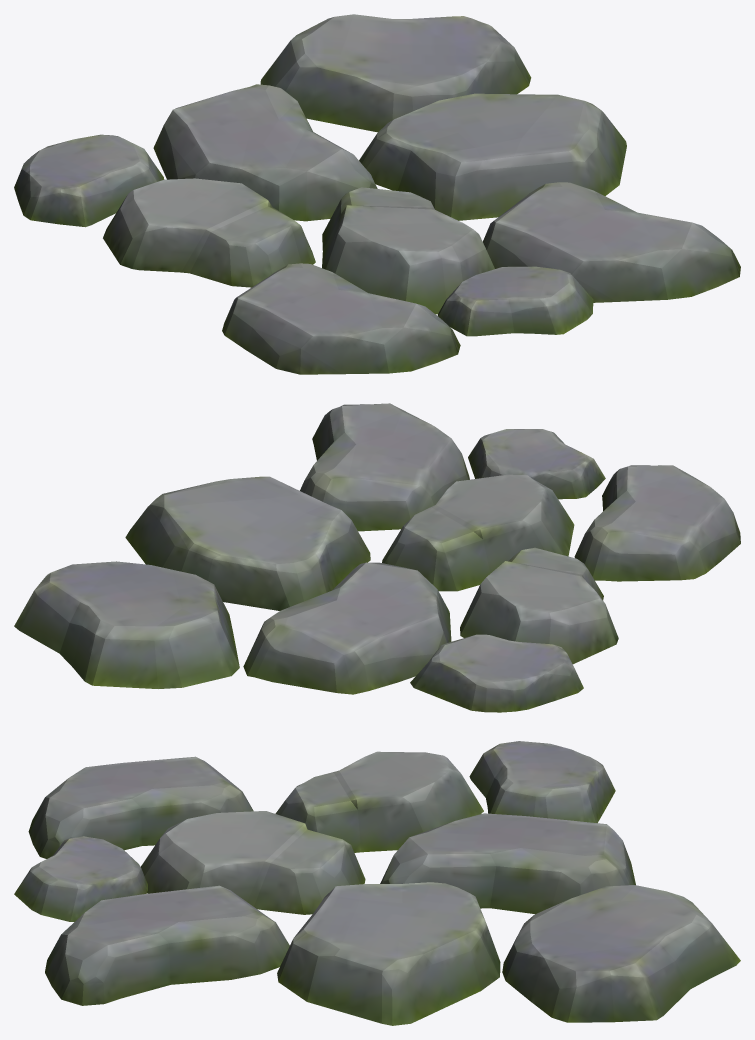
File: sn_rock_path_round_small_2.glb
The picture shows the model from 3 angles, top to bottom: view 1: azimuth 30°, elevation 25°; view 2: azimuth 150°, elevation 25°; view 3: azimuth 270°, elevation 25°; orthographic projection. The views are drawn at different scales.
Visible parts, largest first — view 1: RockPath_Round_Small_2; view 2: RockPath_Round_Small_2; view 3: RockPath_Round_Small_2.
Boxes of the visible parts, bbox=[...] form: RockPath_Round_Small_2: bbox=[14, 14, 740, 374]; RockPath_Round_Small_2: bbox=[14, 403, 740, 712]; RockPath_Round_Small_2: bbox=[14, 741, 740, 1025].
Bounding box in the file's own units: 1.14 × 0.1046 × 1.35.
Materials: 1 (1 with a texture image).
